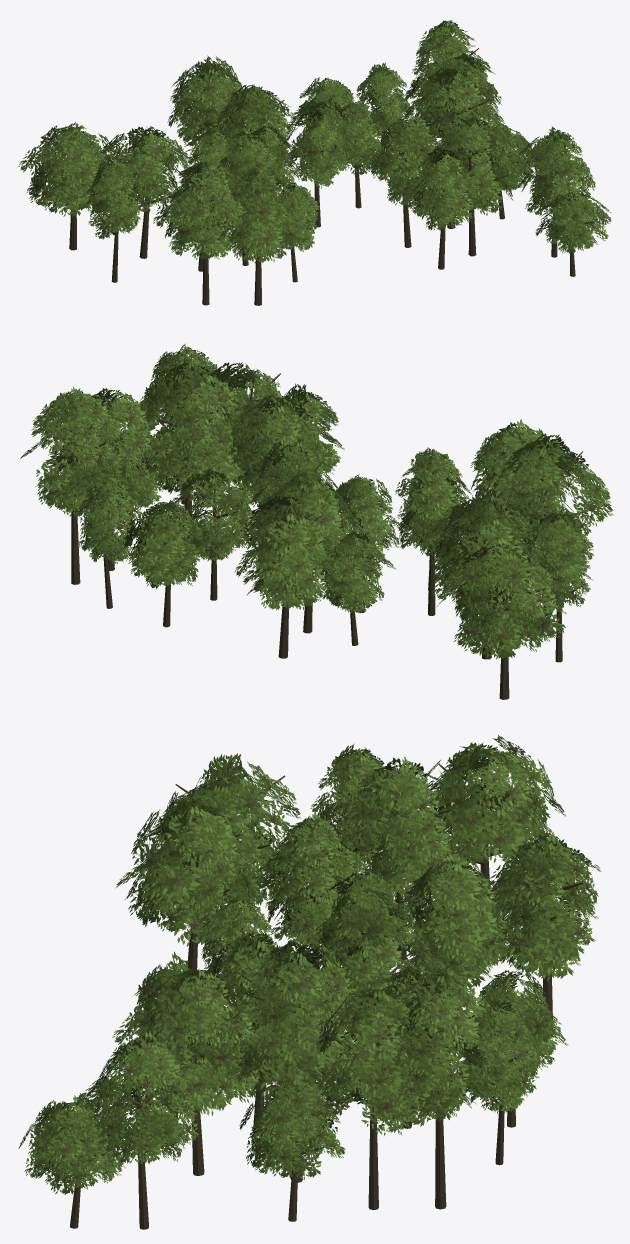
The model's file is TRB8-FOREST-CHUNK-1-5.glb.
3 renders of one model, top to bottom at view 1: azimuth 30°, elevation 25°; view 2: azimuth 150°, elevation 25°; view 3: azimuth 270°, elevation 25°, orthographic. The views are drawn at different scales.
Visible parts, largest first — view 1: TRB8-FOREST-CHUNK-1-5; view 2: TRB8-FOREST-CHUNK-1-5; view 3: TRB8-FOREST-CHUNK-1-5.
Part boxes in pixels (bbox=[...]): TRB8-FOREST-CHUNK-1-5: bbox=[18, 20, 611, 305]; TRB8-FOREST-CHUNK-1-5: bbox=[19, 343, 613, 699]; TRB8-FOREST-CHUNK-1-5: bbox=[18, 735, 601, 1229].
Bounding box in the file's own units: 17.97 × 6.37 × 13.43.
Materials: 2 (1 with a texture image).
